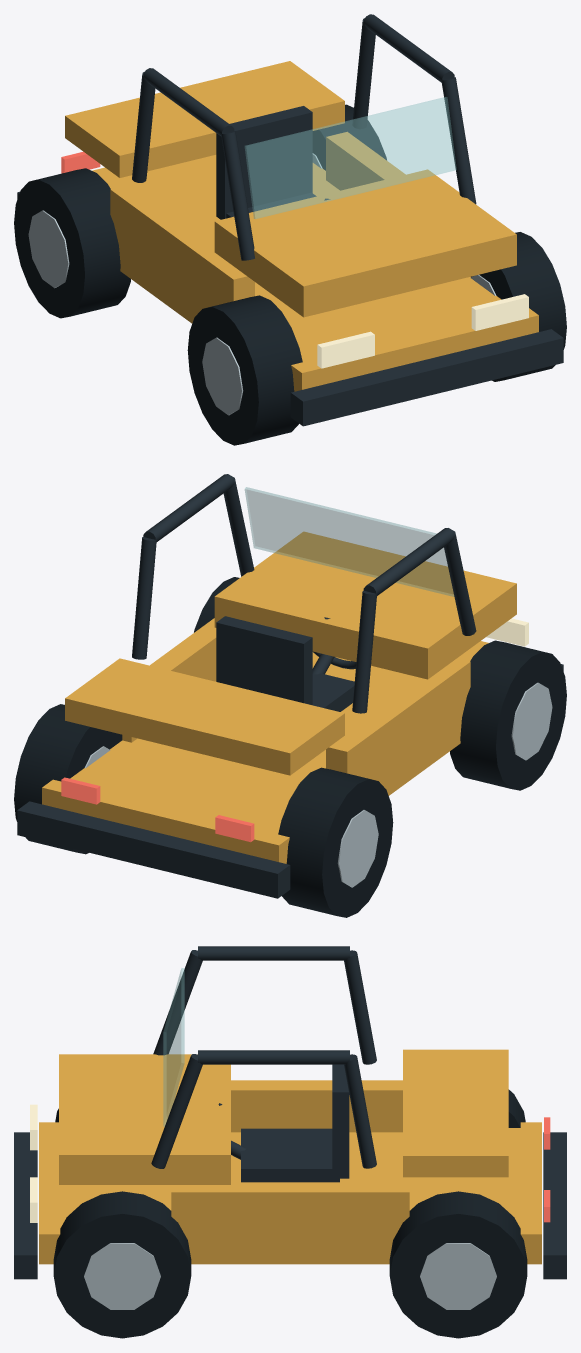
The model's file is rover.glb.
The picture shows the model from 3 angles, top to bottom: view 1: azimuth 30°, elevation 25°; view 2: azimuth 150°, elevation 25°; view 3: azimuth 270°, elevation 25°; orthographic projection. The views are drawn at different scales.
Parts seen in each view (by area): view 1: rover, wheel.1.spin, wheel.0.spin, wheel.3.spin, wheel.2.spin; view 2: rover, wheel.0.spin, wheel.1.spin, wheel.2.spin, wheel.3.spin; view 3: rover, wheel.2.spin, wheel.3.spin.
Boxes of the visible parts, x1,y1,x2,y2 form: rover: (17, 14, 563, 426); wheel.1.spin: (187, 295, 302, 445); wheel.0.spin: (14, 168, 130, 318); wheel.3.spin: (470, 232, 566, 381); wheel.2.spin: (312, 104, 386, 170); rover: (17, 474, 563, 898); wheel.0.spin: (278, 767, 393, 917); wheel.1.spin: (450, 640, 566, 790); wheel.2.spin: (14, 704, 122, 854); wheel.3.spin: (194, 577, 239, 632); rover: (14, 946, 566, 1279); wheel.2.spin: (389, 1191, 527, 1338); wheel.3.spin: (53, 1191, 191, 1338).
Bounding box in the file's own units: 2.62 × 2.22 × 4.18.
